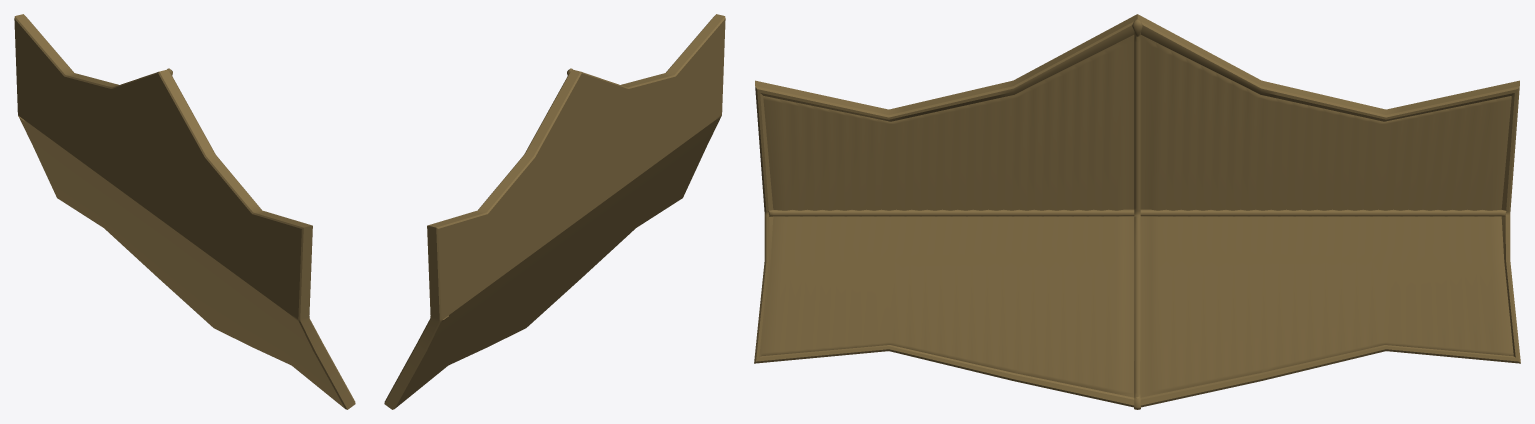
File: fplaceHood_hp.fbx
The picture shows the model from 3 angles, left to right: view 1: azimuth 30°, elevation 25°; view 2: azimuth 150°, elevation 25°; view 3: azimuth 270°, elevation 25°; orthographic projection. The views are drawn at different scales.
Visible parts, largest first — view 1: fireplaceHood_hp; view 2: fireplaceHood_hp; view 3: fireplaceHood_hp.
Part boxes in pixels (bbox=[...]): fireplaceHood_hp: bbox=[14, 14, 355, 409]; fireplaceHood_hp: bbox=[384, 14, 725, 409]; fireplaceHood_hp: bbox=[754, 14, 1520, 409].
Bounding box in the file's own units: 0.1652 × 0.6262 × 1.21.
